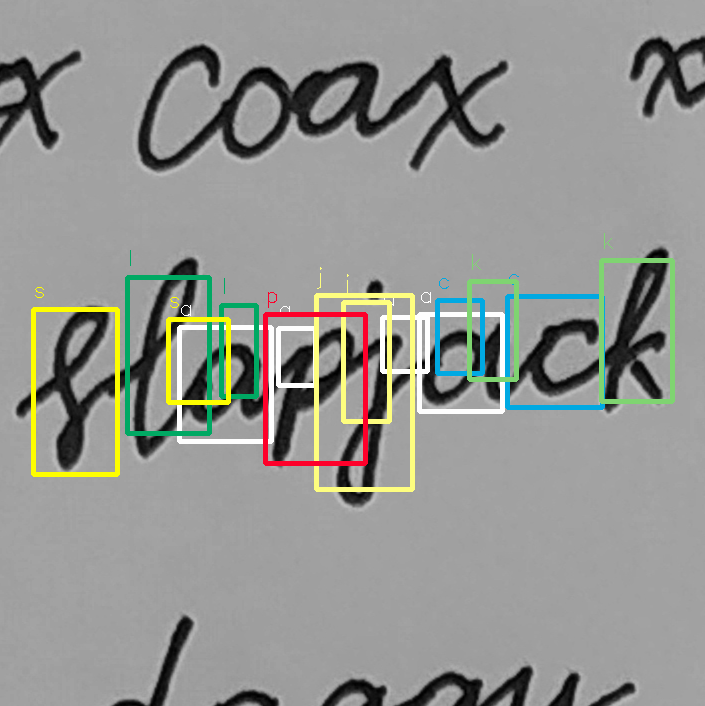a: (412, 315, 513, 412), (180, 337, 269, 430)
c: (517, 311, 607, 397)
j: (331, 276, 407, 509)
k: (595, 239, 677, 417)
l: (125, 251, 208, 461)
p: (269, 319, 359, 472)
s: (28, 302, 120, 478)
